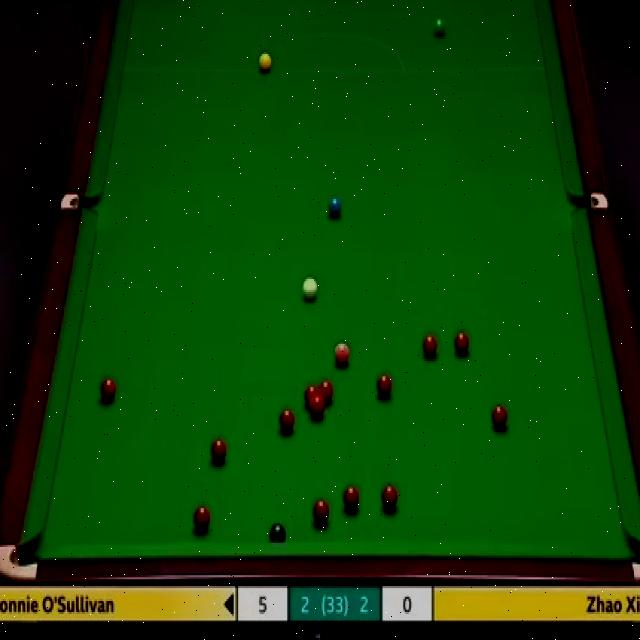black-ball: (269, 524, 286, 541)
blue-ball: (327, 195, 341, 219)
green-ball: (434, 15, 446, 36)
pink-ball: (332, 342, 351, 366)
red-ball: (277, 406, 297, 435), (490, 403, 510, 432), (342, 485, 360, 514), (192, 504, 211, 531), (209, 437, 228, 464), (309, 394, 326, 423), (312, 497, 329, 525), (316, 378, 334, 404), (453, 329, 469, 357), (381, 485, 399, 509), (98, 378, 116, 402), (377, 372, 392, 398), (305, 385, 320, 410), (422, 335, 438, 357)
white-ball: (304, 276, 318, 302)
yellow-ball: (256, 52, 273, 74)
